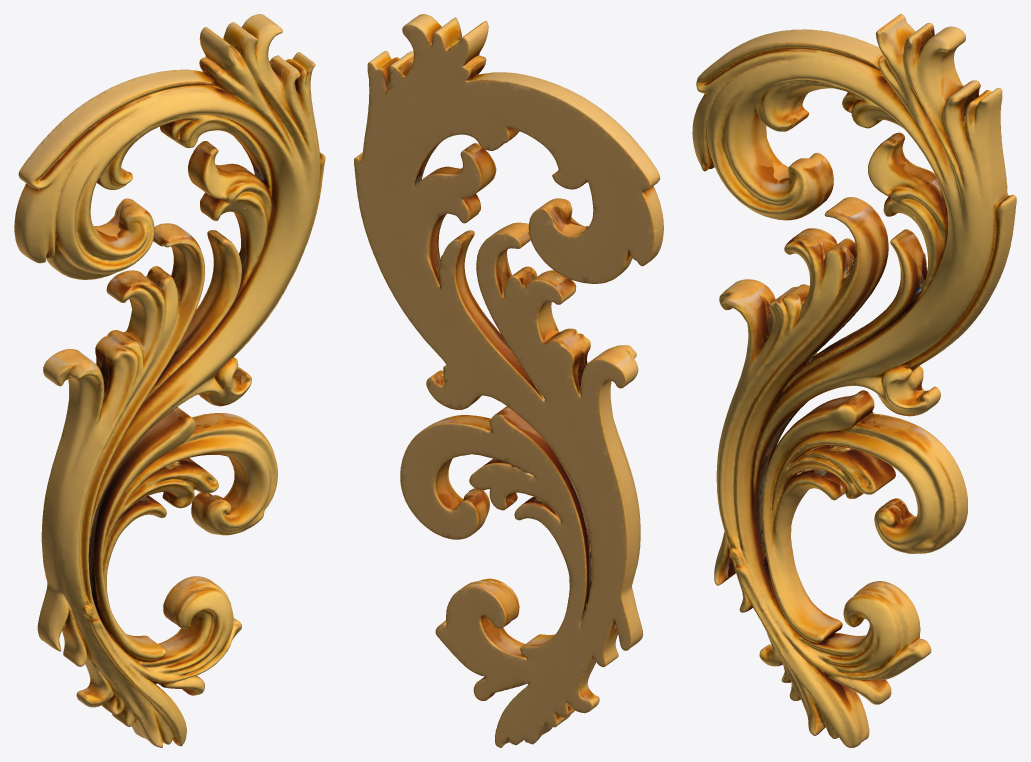
The model's file is Meshy_AI_Baroque_Flourish_1016063642_texture.fbx.
3 views of the same model, side by side, from view 1: azimuth 30°, elevation 25°; view 2: azimuth 150°, elevation 25°; view 3: azimuth 330°, elevation 25° (orthographic). The views are drawn at different scales.
Parts seen in each view (by area): view 1: Mesh_0; view 2: Mesh_0; view 3: Mesh_0.
Boxes of the visible parts, left/top/right/bottom form: Mesh_0: left=14, top=14, right=325, bottom=747; Mesh_0: left=354, top=14, right=663, bottom=747; Mesh_0: left=692, top=14, right=1016, bottom=747.
Bounding box in the file's own units: 85.95 × 192 × 12.26.
1 material, 1 textured.
